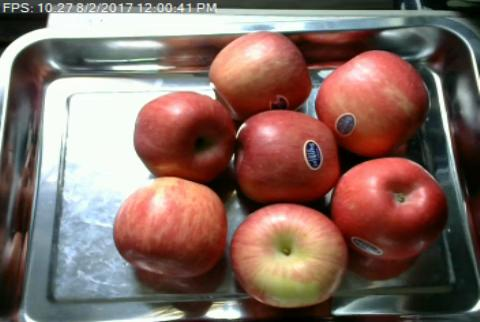apple: (331, 157, 448, 261), (230, 203, 347, 305), (316, 49, 430, 152), (112, 178, 227, 278), (231, 109, 337, 204), (133, 91, 235, 181), (210, 31, 311, 111)
